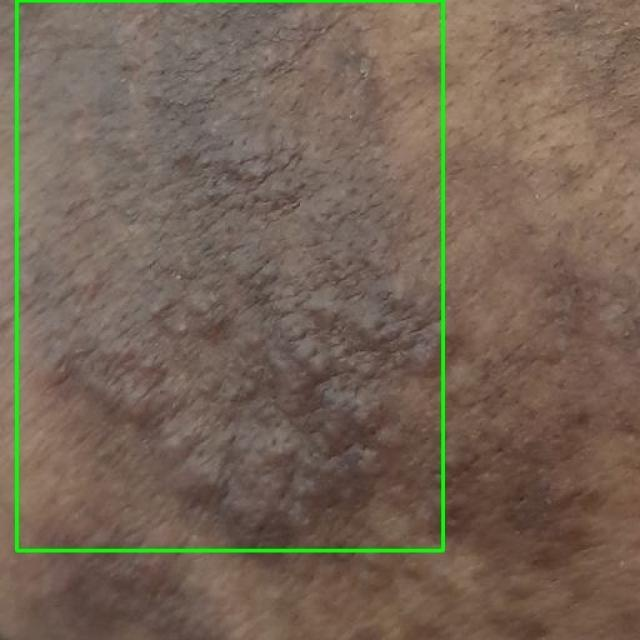Tinea Corporis: (16, 0, 442, 550)
